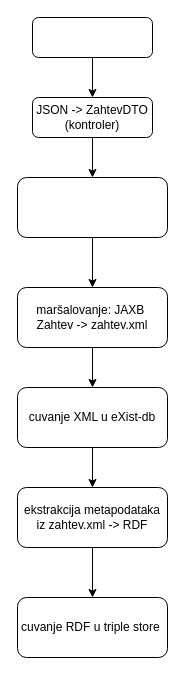
The diagram is 185 pixels wide and 675 high, and some of its shapes have lost their labels. The shapes that lost their labels are listed below. From the top down, each one's box as (x1, y1, x2, y2) in pixels, then its label:
(32, 16, 152, 58): angular forma (popunjavanje A-1)
(16, 176, 168, 238): mapiranje: ZahtevDTO -> Java objekat Zahtev
